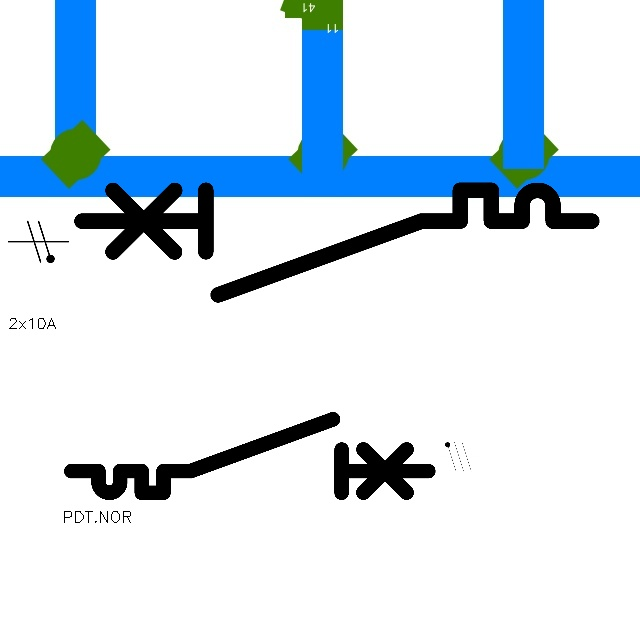interruptor_termomagnetico: (68, 177, 604, 308), (62, 410, 437, 502)
